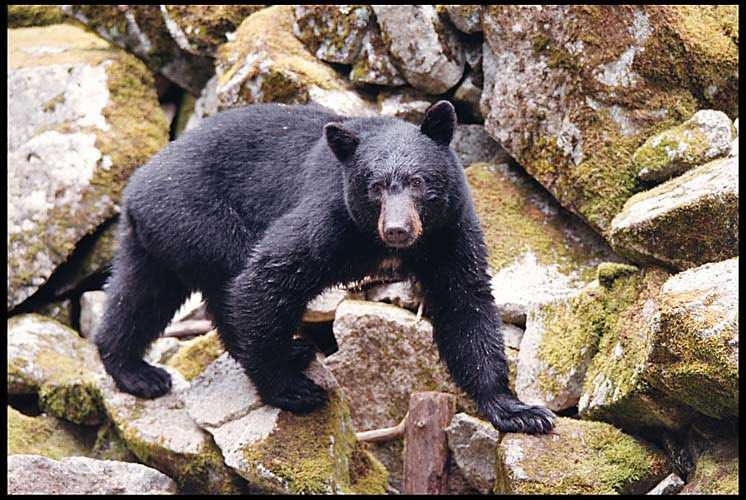bear: (336, 124, 464, 252)
